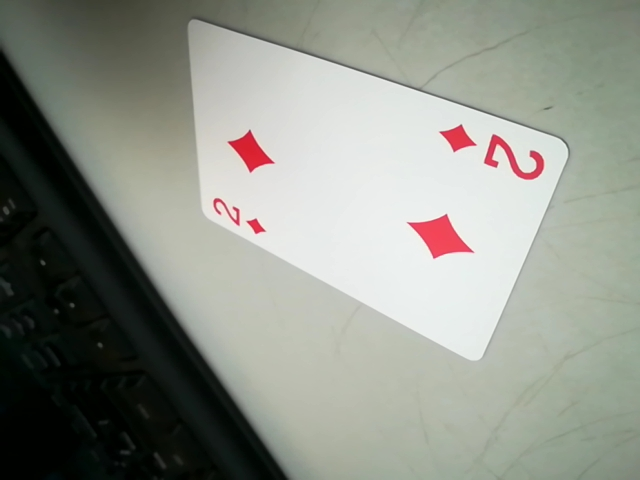fk 2: (435, 122, 552, 185), (203, 191, 269, 241)
